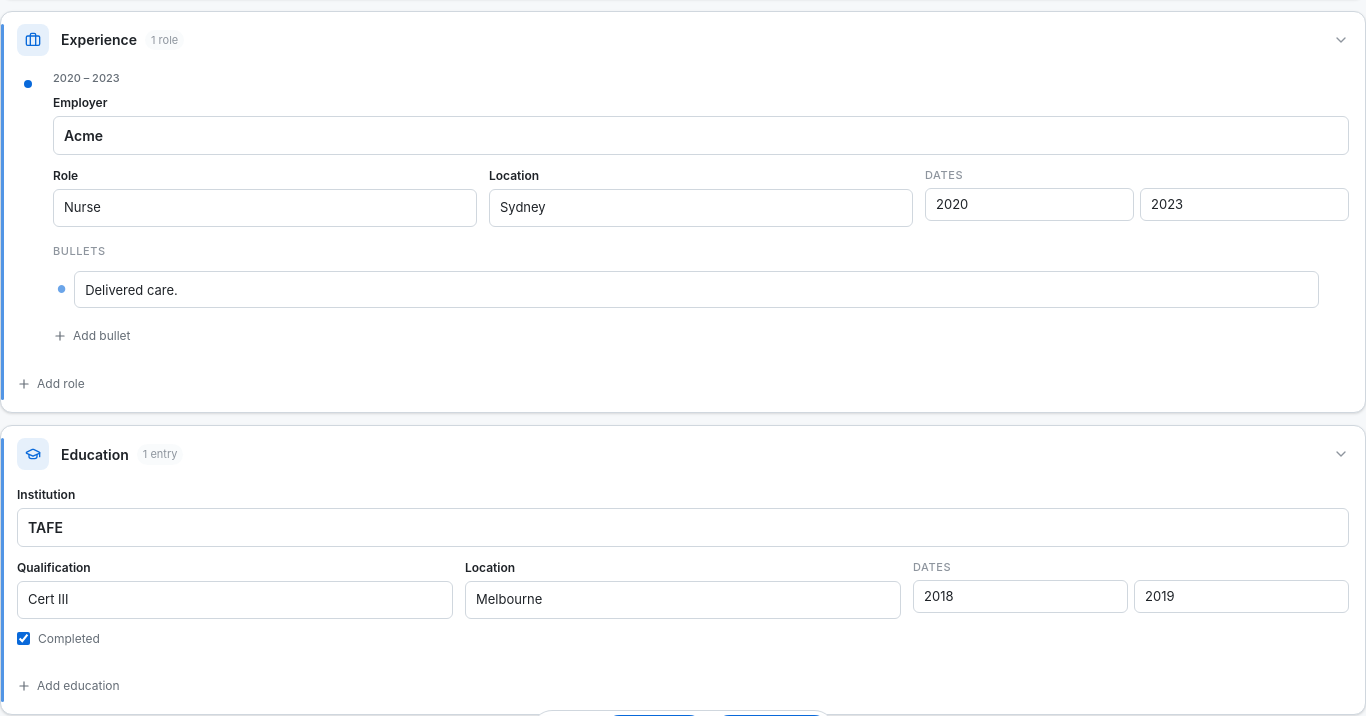
Test: Experience section › adding a role reaches addExperience and shows Remove role buttons (rendered once length > 1)
(page scrolled)
Click the button "Add role" at (51, 384), box [9,372,93,396]
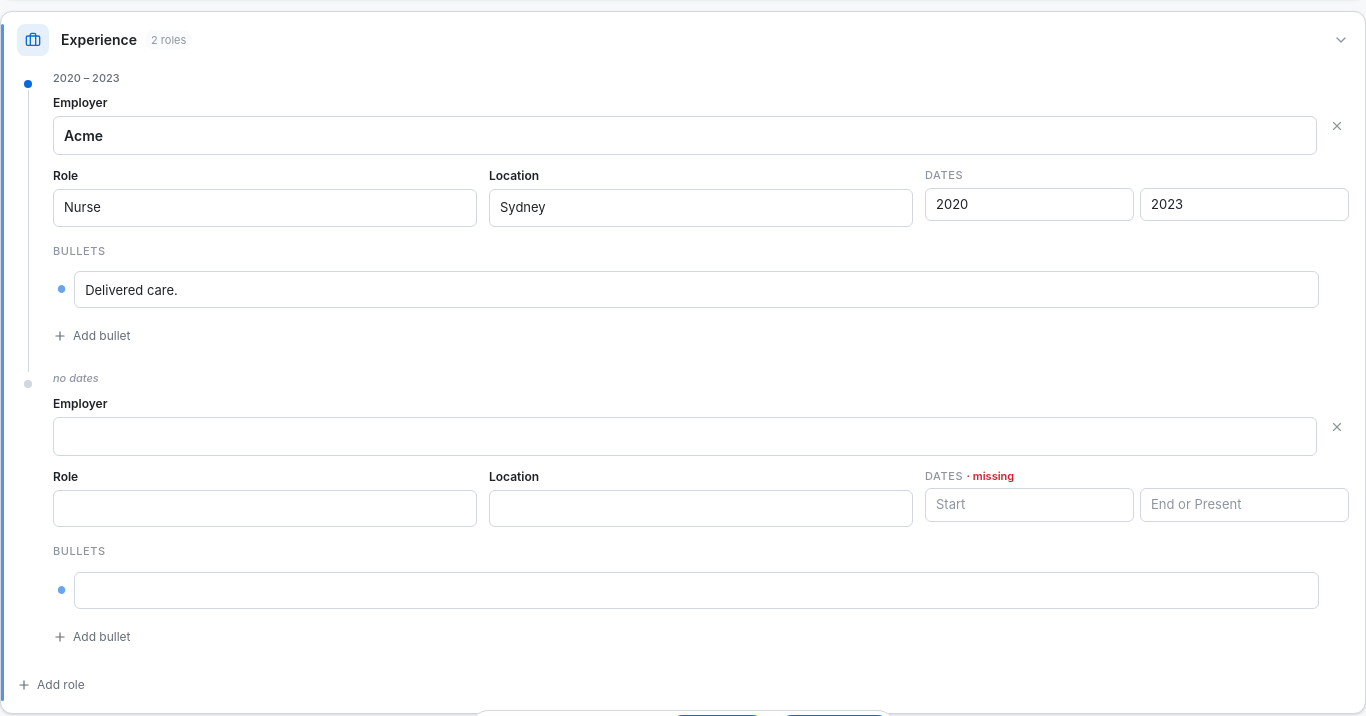
Check: the number of fields labelled "Employer" is 2, box [53,116,1317,155]; [53,417,1317,456]
Check: the number of buttons named "Remove role" is 2, box [1325,114,1349,138]; [1325,415,1349,439]
